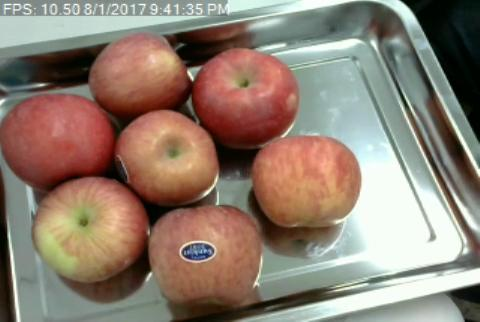apple: (30, 174, 148, 282), (150, 205, 264, 307), (190, 46, 298, 148), (113, 110, 218, 207), (251, 136, 361, 226), (3, 93, 115, 180), (87, 32, 191, 119)
